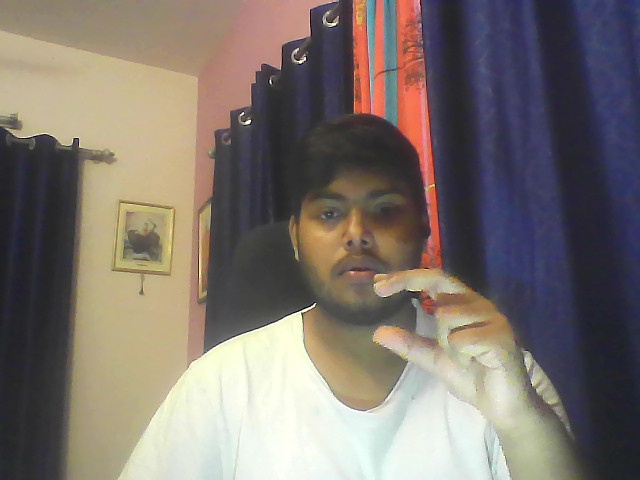No: (360, 255, 565, 421)
